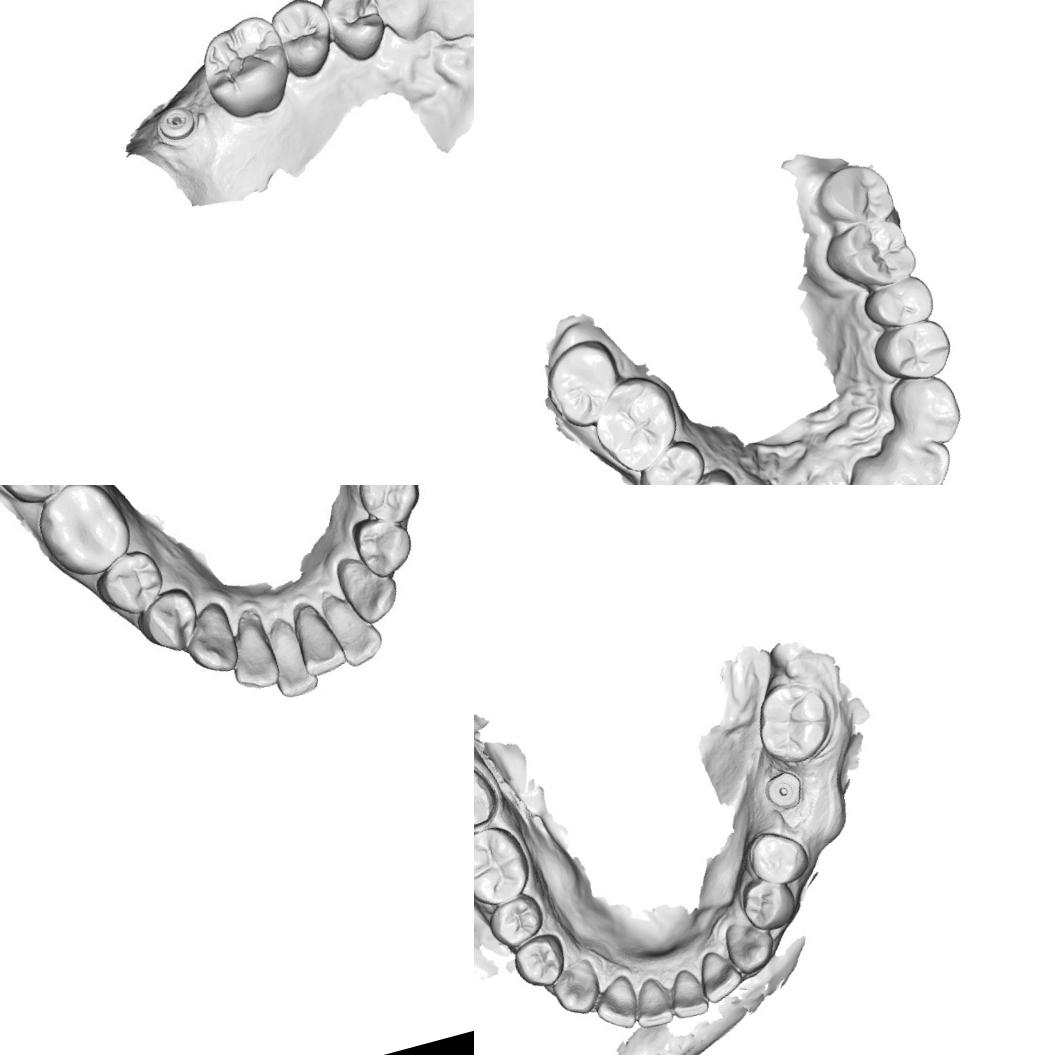canine: (883, 367, 970, 456), (331, 546, 404, 630), (174, 598, 243, 682), (365, 0, 450, 48), (545, 954, 606, 1020), (722, 911, 780, 972)
crown: (474, 754, 504, 841)
implant: (758, 764, 808, 815)
implant_minus: (150, 98, 202, 148)
incisor: (317, 584, 388, 672), (258, 614, 322, 701), (286, 598, 350, 680), (219, 615, 282, 696), (884, 426, 959, 485), (848, 442, 937, 485), (587, 971, 643, 1036), (691, 943, 747, 1006), (625, 972, 676, 1032), (661, 962, 711, 1022), (423, 0, 474, 45)
molar: (190, 7, 298, 128), (581, 366, 690, 481), (26, 485, 139, 587), (535, 331, 632, 436), (816, 210, 925, 298), (746, 672, 842, 771), (808, 153, 904, 237), (474, 819, 537, 913)
premolar: (866, 312, 958, 392), (88, 543, 172, 624), (130, 582, 206, 660), (267, 0, 339, 82), (346, 507, 420, 585), (856, 270, 940, 337), (741, 820, 815, 893), (315, 0, 390, 69), (627, 433, 715, 485), (482, 890, 550, 952), (508, 928, 572, 993), (736, 873, 802, 936), (351, 485, 426, 530), (667, 462, 748, 485)
